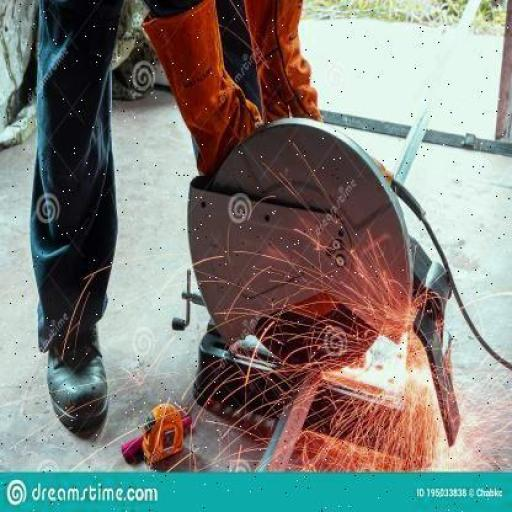safety_shoe: (43, 321, 111, 432)
